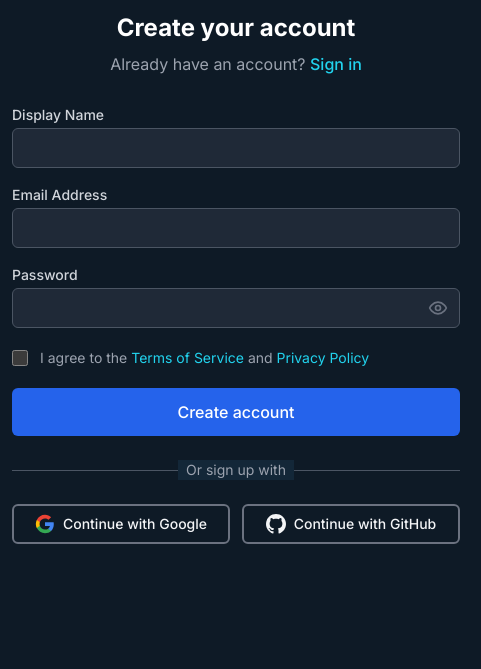
Test: RegisterPage › validates password requirements
Type "weak" into the password field labelled "Password" at (236, 308), box top-left (12, 288), bottom-right (460, 328)
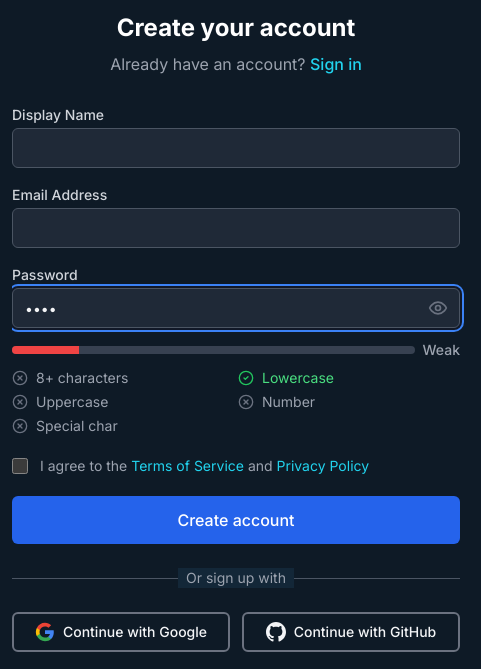
Expected: the text "8+ characters" is shown, top-left (36, 368), bottom-right (128, 388)
Expected: the text "Lowercase" is shown, top-left (262, 368), bottom-right (334, 388)
Expected: the text "Uppercase" is shown, top-left (36, 392), bottom-right (108, 412)
